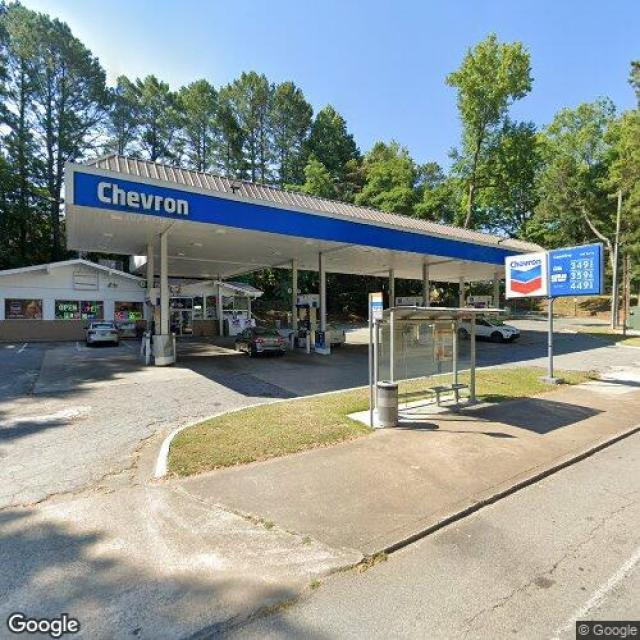seating: (422, 383, 469, 408)
shelter: (368, 306, 506, 414)
trash_can: (376, 381, 398, 427)
